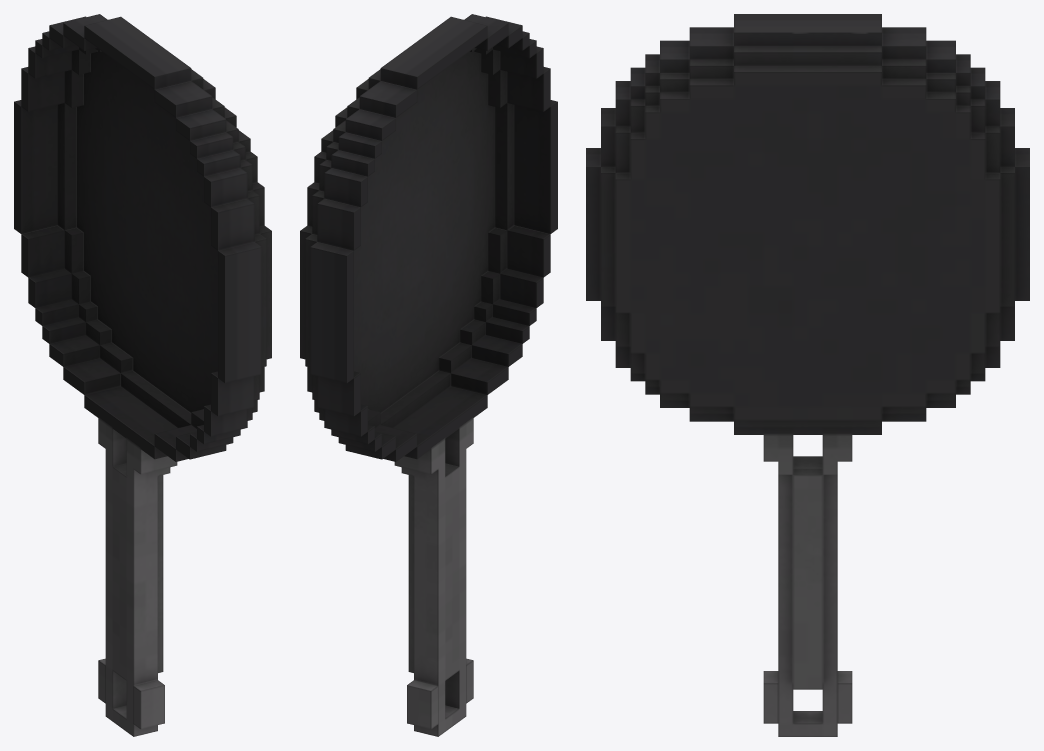
The model's file is RD_PAN.glb.
The picture shows the model from 3 angles, left to right: view 1: azimuth 30°, elevation 25°; view 2: azimuth 150°, elevation 25°; view 3: azimuth 270°, elevation 25°; orthographic projection. The views are drawn at different scales.
Parts seen in each view (by area): view 1: RD_PAN; view 2: RD_PAN; view 3: RD_PAN.
Part boxes in pixels (x1,y1,x2,y2): RD_PAN: (14, 14, 271, 736); RD_PAN: (300, 14, 557, 736); RD_PAN: (586, 14, 1029, 736).
Size of the model in its own units: 0.0984 by 1.04 by 0.5906.
Materials: 1 (1 with a texture image).
